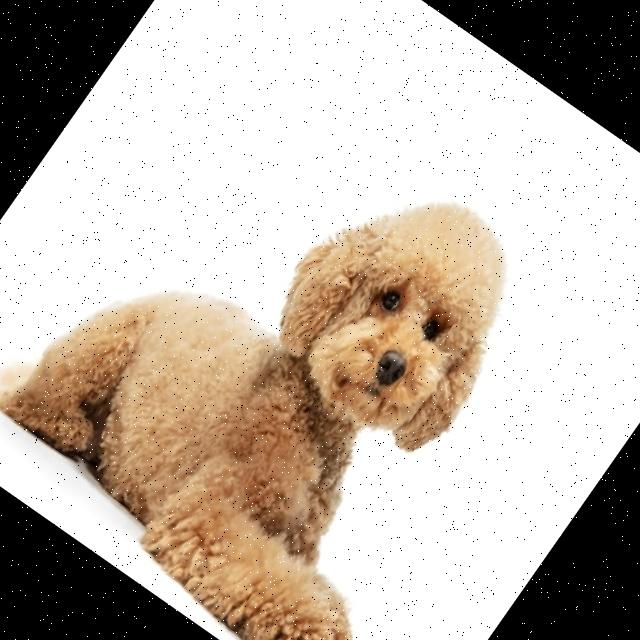Dog: (0, 38, 598, 640)
